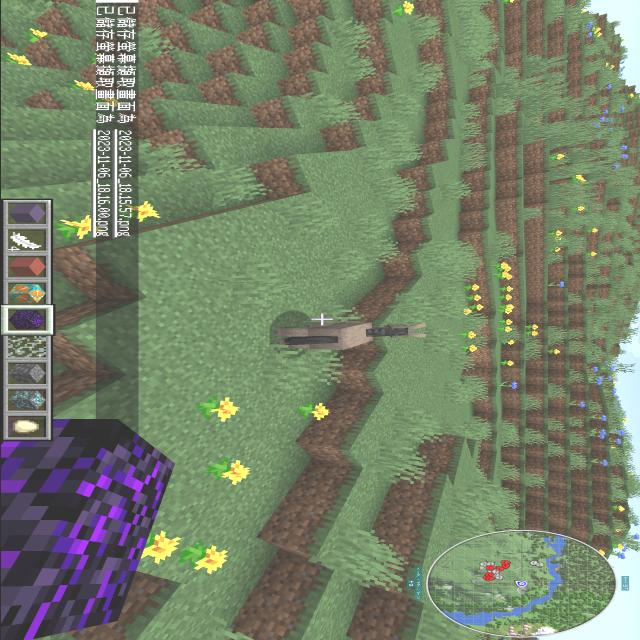pig: (266, 315, 432, 355)
